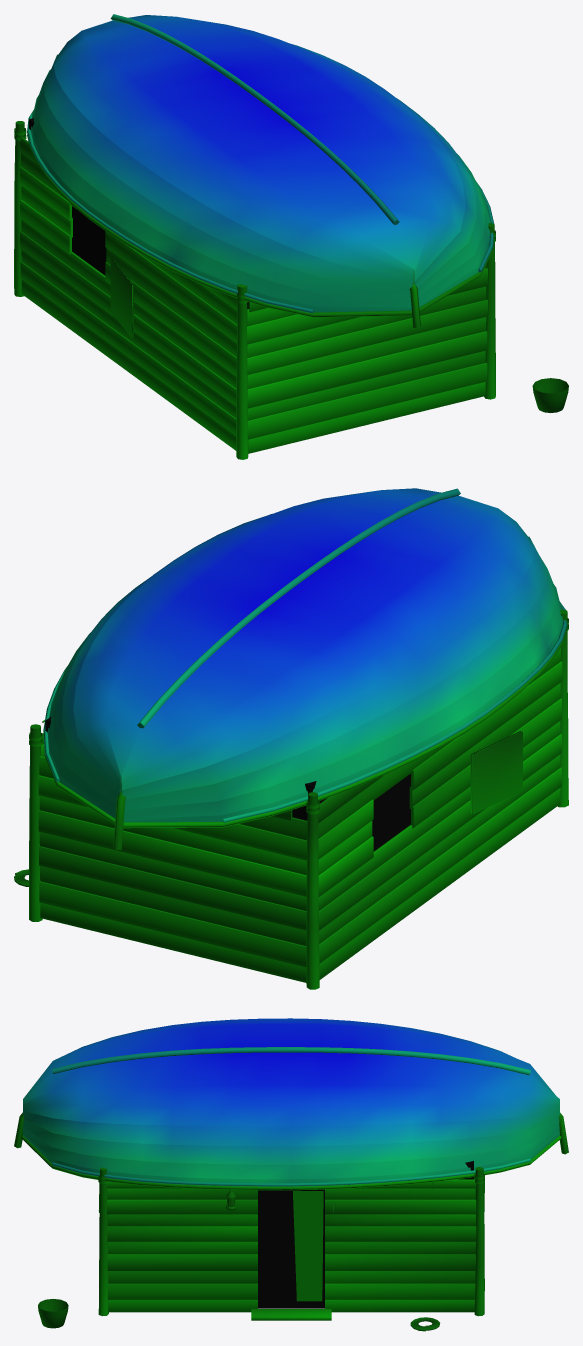
Rendered from cabin_keelroof.glb.
3 views of the same model, one above another, from view 1: azimuth 30°, elevation 25°; view 2: azimuth 150°, elevation 25°; view 3: azimuth 270°, elevation 25° (orthographic). The views are drawn at different scales.
Visible parts, largest first — view 1: cabin_keelroof; view 2: cabin_keelroof; view 3: cabin_keelroof.
Boxes of the visible parts, left/top/right/bottom form: cabin_keelroof: left=14, top=14, right=568, bottom=459; cabin_keelroof: left=14, top=488, right=568, bottom=989; cabin_keelroof: left=14, top=1018, right=568, bottom=1331.
Size of what is drawn, in the model's own units: 4.98 by 3.55 by 8.27.
